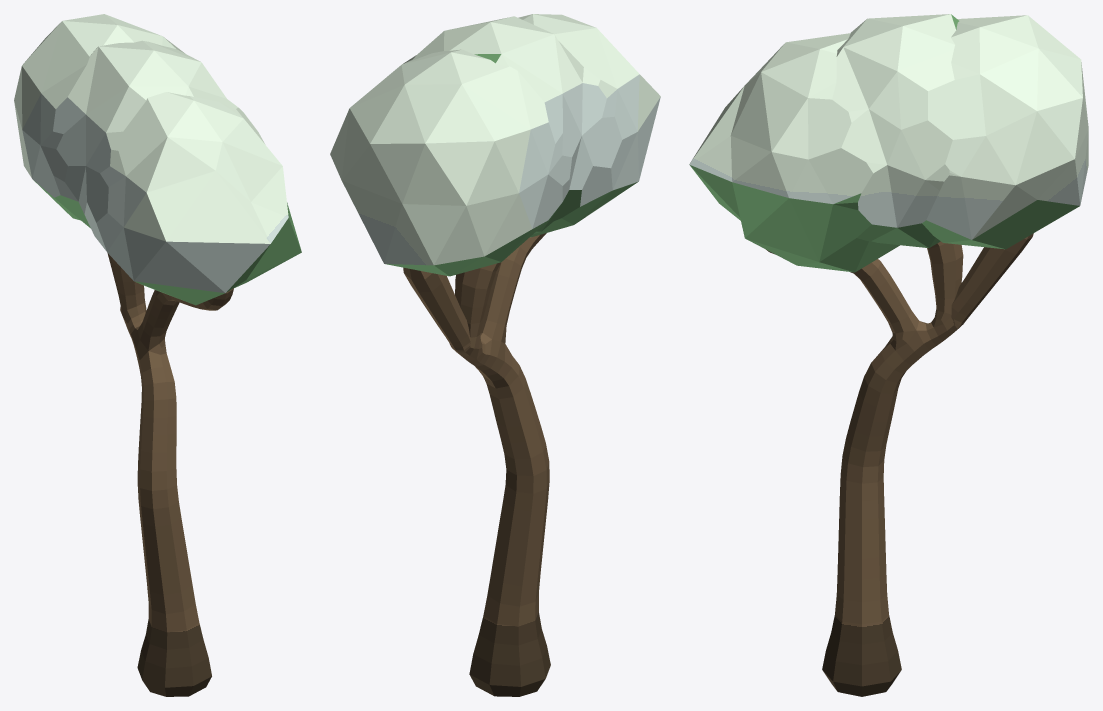
File: leaves_2.gltf
3 renders of one model, left to right at view 1: azimuth 30°, elevation 25°; view 2: azimuth 150°, elevation 25°; view 3: azimuth 270°, elevation 25°, orthographic. The views are drawn at different scales.
Parts seen in each view (by area): view 1: Plane; view 2: Plane; view 3: Plane.
Part boxes in pixels (x1,y1,x2,y2): Plane: (14, 14, 301, 696); Plane: (330, 14, 660, 696); Plane: (689, 14, 1088, 696).
Bounding box in the file's own units: 1.94 × 6.52 × 3.56.
2 materials, 2 textured.
